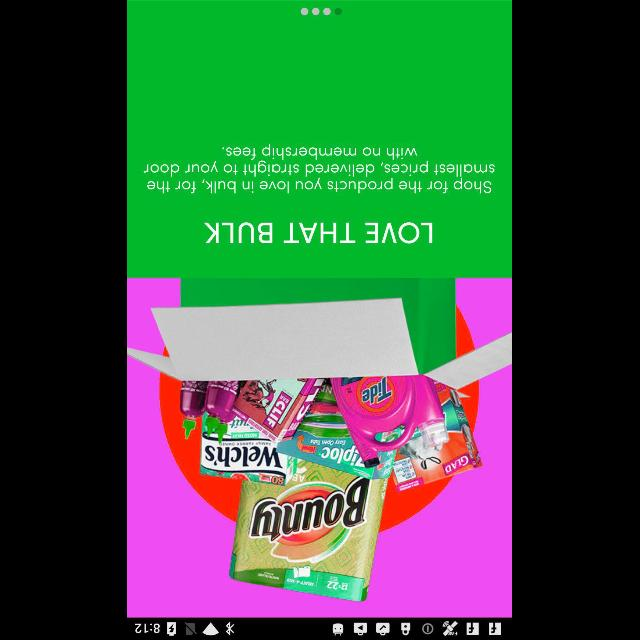image: (128, 279, 512, 617)
pageindicator: (301, 7, 343, 15)
text: (144, 144, 496, 194), (204, 222, 433, 244)
uppertaskbar: (128, 617, 512, 639)
